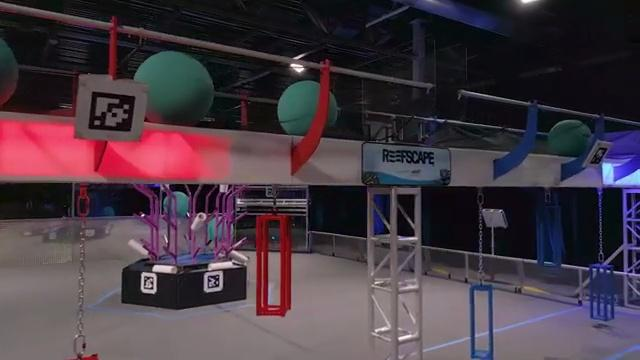ALGAE: (134, 51, 213, 128), (277, 80, 338, 140), (548, 120, 594, 159)
